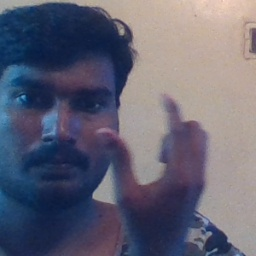U: (98, 91, 211, 225)
